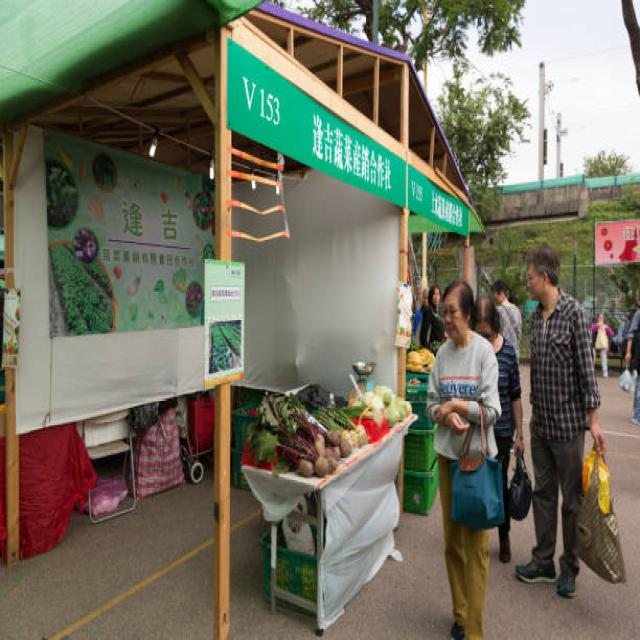Emperan: (1, 0, 494, 640)
